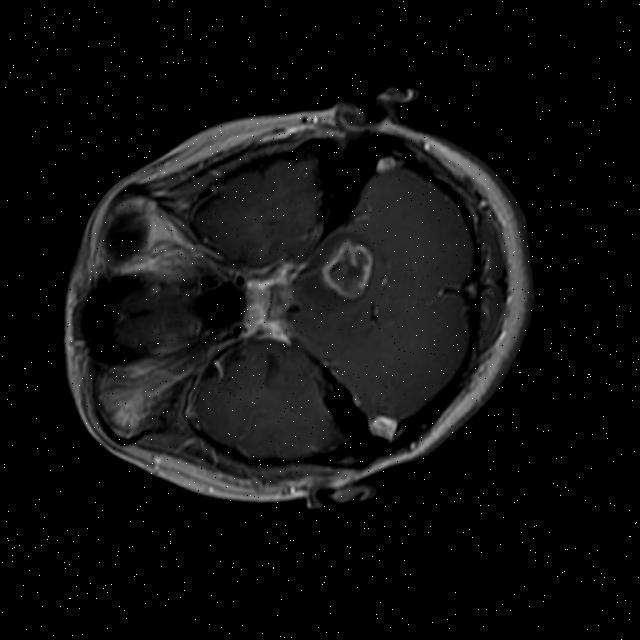Glioma: (317, 233, 377, 305)
Pituitary: (242, 280, 273, 322)
